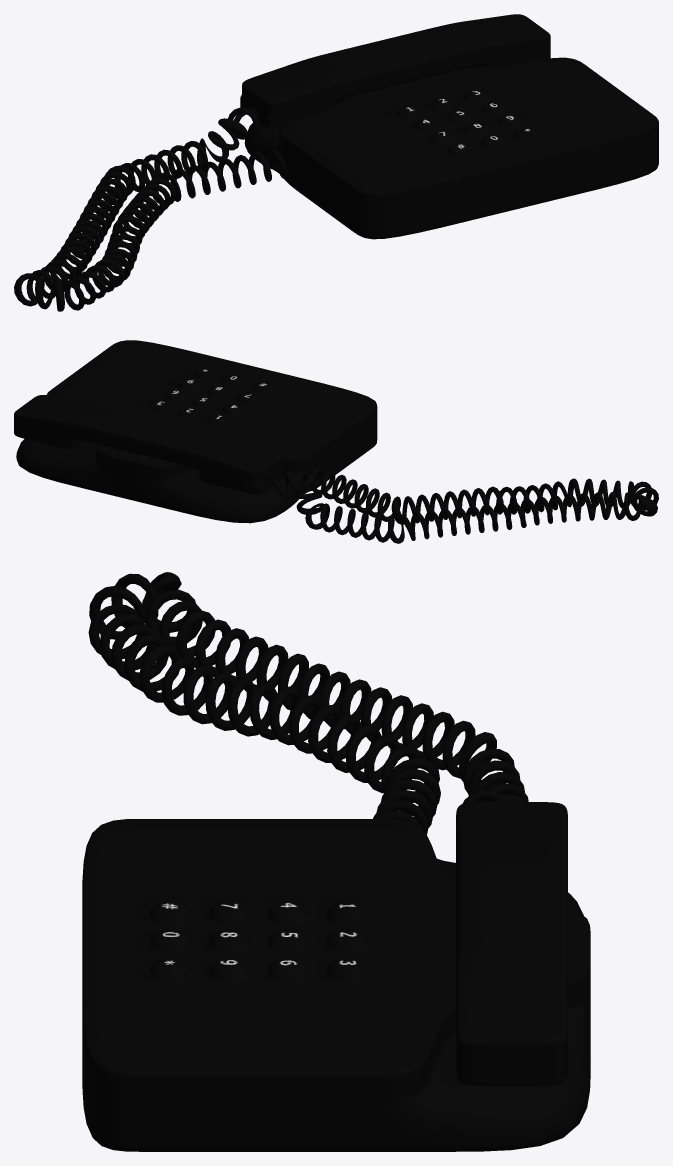
File: telefono.fbx
The picture shows the model from 3 angles, top to bottom: view 1: azimuth 30°, elevation 25°; view 2: azimuth 150°, elevation 25°; view 3: azimuth 270°, elevation 25°; orthographic projection. The views are drawn at different scales.
Parts seen in each view (by area): view 1: telephone; view 2: telephone; view 3: telephone.
Boxes of the visible parts, <box> form: telephone: <box>14,14,658,311</box>; telephone: <box>14,340,658,543</box>; telephone: <box>82,572,590,1151</box>.
Size of the model in its own units: 4429 by 482 by 1772.
Materials: 1 (1 with a texture image).
